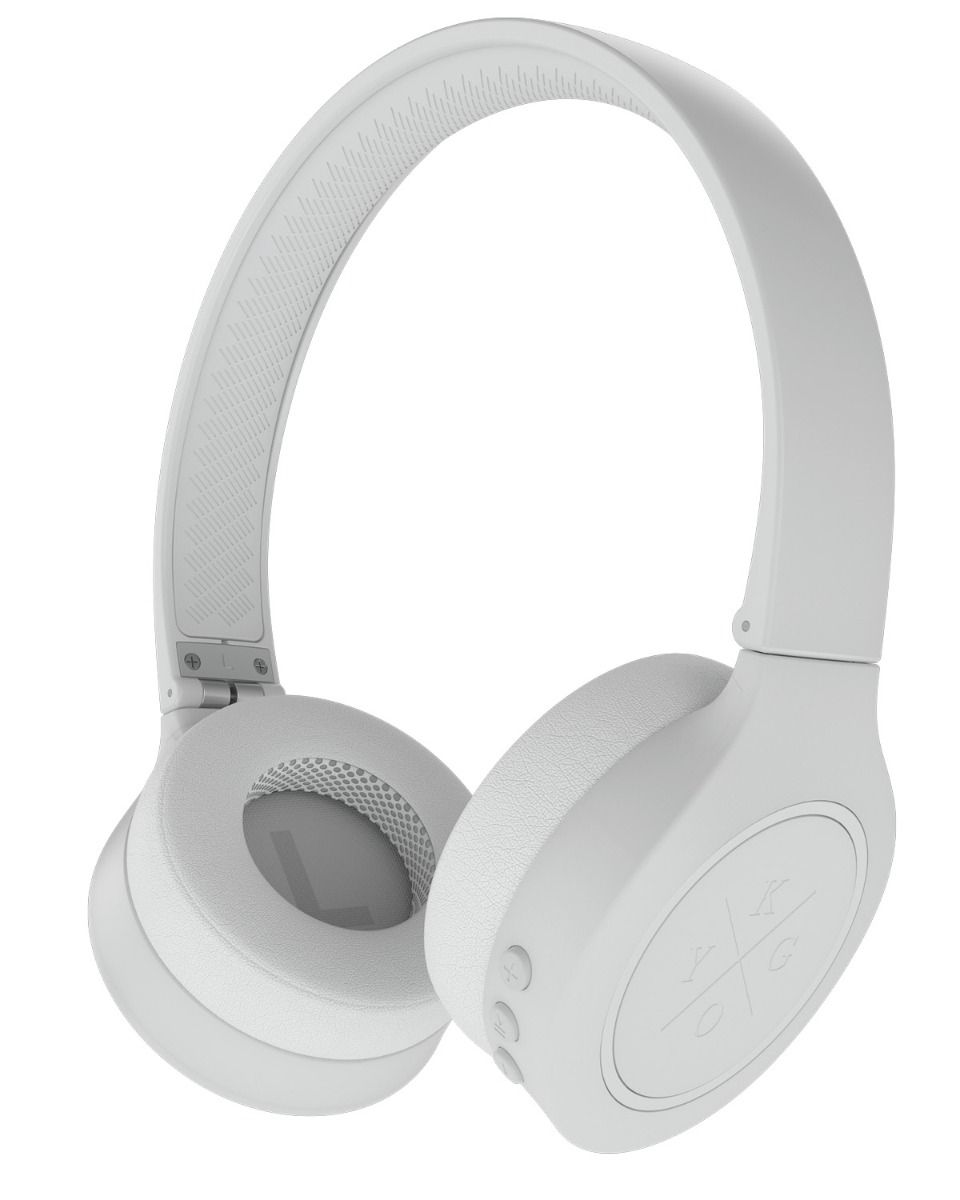Headphone: (71, 4, 913, 1161)
